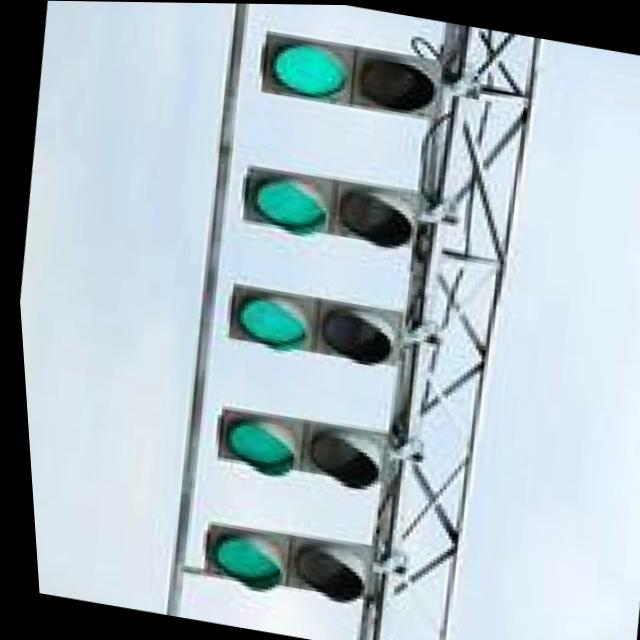green_light: (216, 3, 383, 144), (174, 381, 327, 514), (215, 136, 356, 263), (185, 488, 301, 636), (208, 262, 341, 380)
